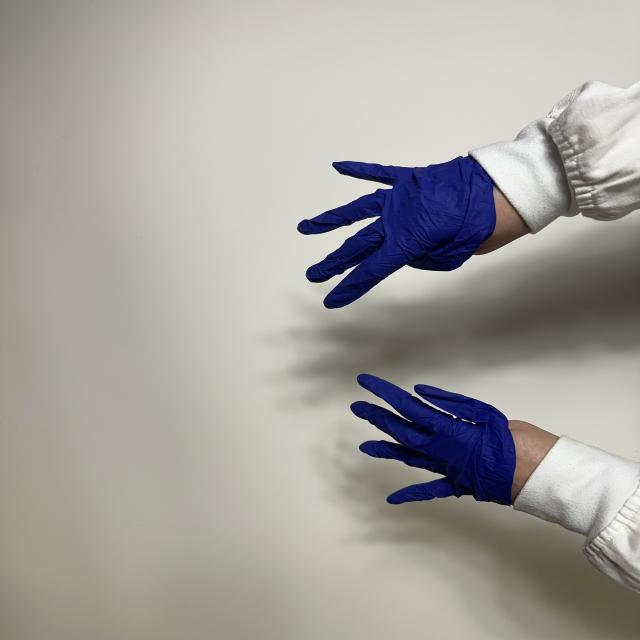glove_partial: (298, 157, 521, 308), (351, 374, 559, 504)
